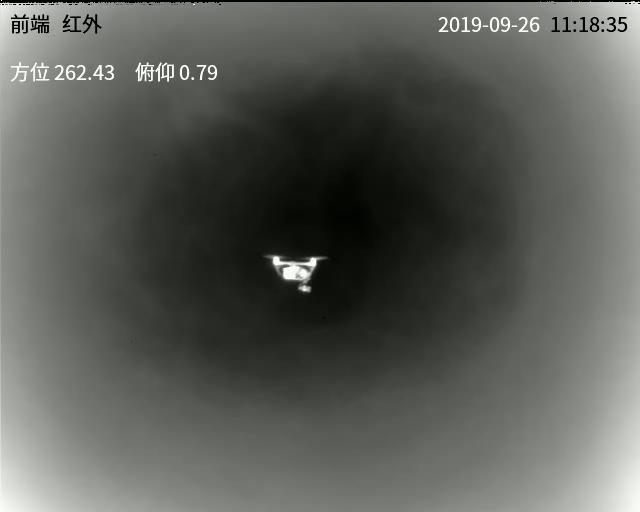uav: (256, 245, 328, 298)
